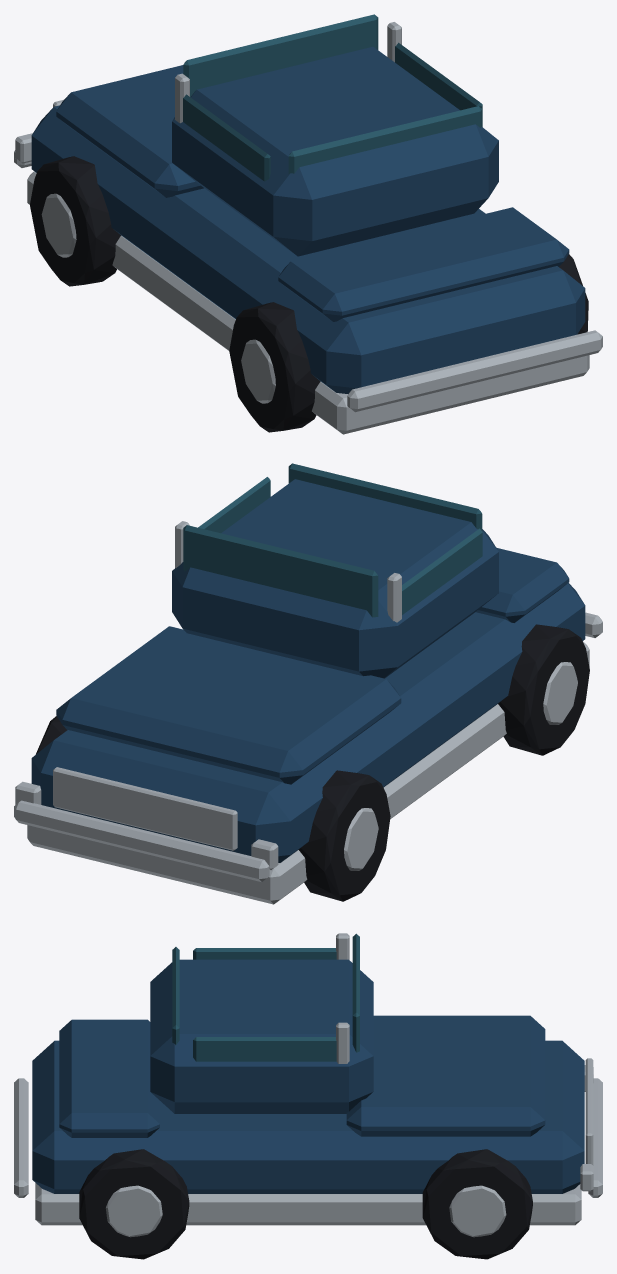
File: hero_1967_detail_lod2.fbx
The picture shows the model from 3 angles, top to bottom: view 1: azimuth 30°, elevation 25°; view 2: azimuth 150°, elevation 25°; view 3: azimuth 270°, elevation 25°; orthographic projection. The views are drawn at different scales.
Visible parts, largest first — view 1: Cabin, BodyLower, Trunk, Frame, Hood, Tire.001, Tire, Windshield, RearBumper, RearGlass, SideGlass, SideGlass.001 (+2 smaller); view 2: Cabin, BodyLower, Hood, Frame, Windshield, Grille, Tire.001, Tire, FrontBumper, Trunk, RearGlass, SideGlass (+5 smaller); view 3: BodyLower, Cabin, Hood, Trunk, Frame, Tire.003, Tire.002, SideGlass.001, AlloyHub.003, AlloyHub.002, RearBumper, SideGlass (+5 smaller).
Boxes of the visible parts, bbox=[...] form: Cabin: bbox=[172, 46, 498, 256]; BodyLower: bbox=[31, 105, 585, 393]; Trunk: bbox=[278, 207, 569, 321]; Frame: bbox=[27, 171, 589, 434]; Hood: bbox=[56, 65, 203, 197]; Tire.001: bbox=[30, 156, 120, 286]; Tire: bbox=[229, 302, 320, 432]; Windshield: bbox=[183, 14, 378, 96]; RearBumper: bbox=[347, 330, 602, 412]; RearGlass: bbox=[288, 106, 482, 173]; SideGlass: bbox=[183, 94, 270, 181]; SideGlass.001: bbox=[395, 42, 482, 126]; Cabin: bbox=[172, 479, 498, 678]; BodyLower: bbox=[31, 583, 585, 862]; Hood: bbox=[56, 626, 401, 784]; Frame: bbox=[27, 641, 589, 904]; Windshield: bbox=[183, 525, 378, 617]; Grille: bbox=[53, 767, 237, 850]; Tire.001: bbox=[298, 770, 390, 901]; Tire: bbox=[498, 624, 589, 755]; FrontBumper: bbox=[14, 800, 269, 881]; Trunk: bbox=[476, 547, 569, 622]; RearGlass: bbox=[288, 463, 482, 530]; SideGlass: bbox=[402, 528, 482, 614]; BodyLower: bbox=[32, 1040, 584, 1193]; Cabin: bbox=[150, 959, 373, 1113]; Hood: bbox=[346, 1015, 545, 1136]; Trunk: bbox=[59, 1019, 159, 1137]; Frame: bbox=[35, 1183, 581, 1225]; Tire.003: bbox=[422, 1149, 532, 1259]; Tire.002: bbox=[79, 1149, 189, 1259]; SideGlass.001: bbox=[193, 1037, 336, 1061]; AlloyHub.003: bbox=[449, 1185, 506, 1237]; AlloyHub.002: bbox=[105, 1185, 162, 1237]; RearBumper: bbox=[14, 1078, 28, 1197]; SideGlass: bbox=[193, 948, 336, 959].
Bounding box in the file's own units: 2.48 × 2.02 × 4.8.
